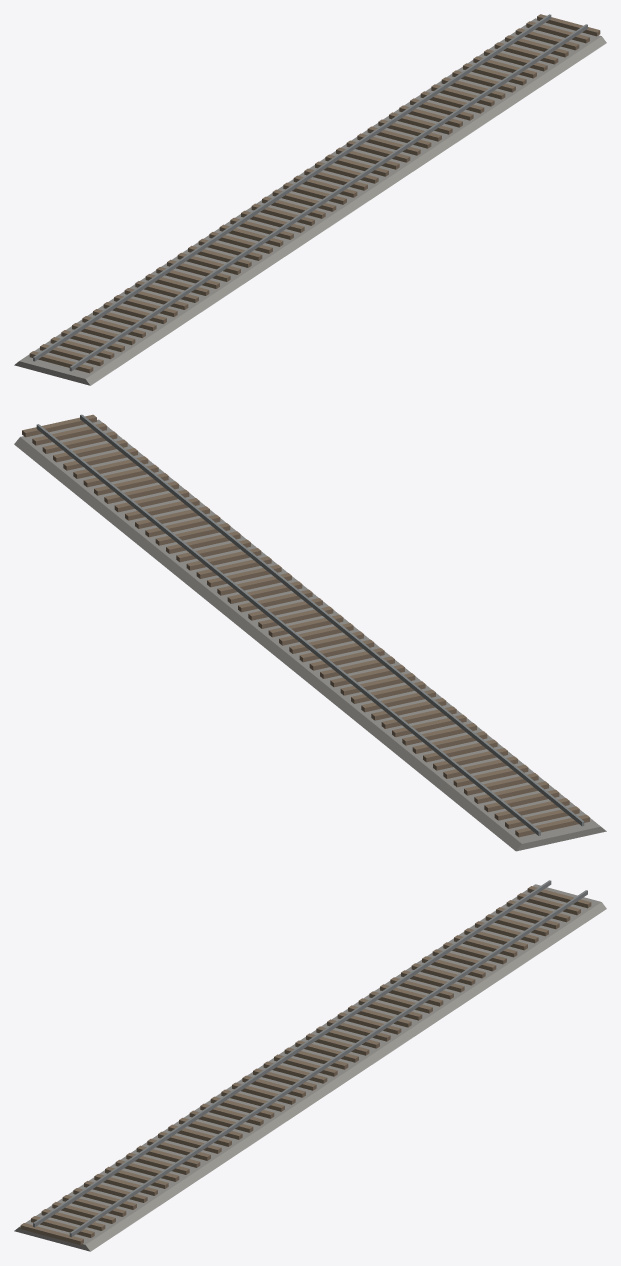
The model's file is rail_01211.glb.
The picture shows the model from 3 angles, top to bottom: view 1: azimuth 90°, elevation 25°; view 2: azimuth 150°, elevation 25°; view 3: azimuth 270°, elevation 25°; orthographic projection. The views are drawn at different scales.
Visible parts, largest first — view 1: Sleepers, Ballast, Rails; view 2: Sleepers, Ballast, Rails; view 3: Sleepers, Ballast, Rails.
Part boxes in pixels (x1,y1,x2,y2): Sleepers: (29, 14, 600, 373); Ballast: (14, 18, 606, 385); Rails: (33, 14, 587, 371); Sleepers: (22, 414, 589, 837); Ballast: (14, 419, 606, 851); Rails: (36, 414, 584, 835); Sleepers: (20, 886, 591, 1244); Ballast: (14, 884, 606, 1251); Rails: (33, 880, 587, 1237).
Size of the model in its own units: 28.4 by 0.48 by 19.58.
